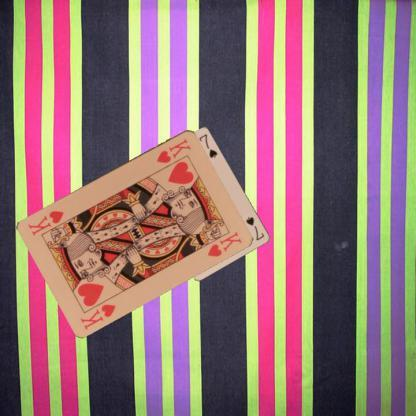7s: (243, 214, 266, 242)
Kh: (78, 300, 118, 330), (154, 136, 194, 164)
